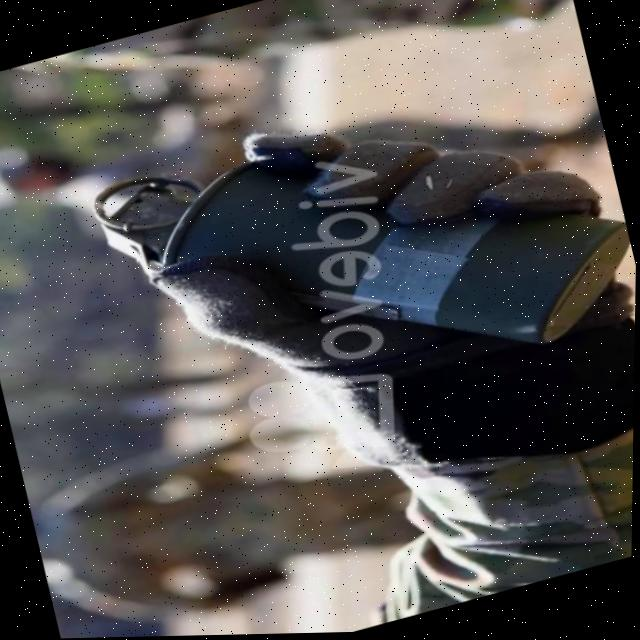grenade: (42, 25, 640, 474)
